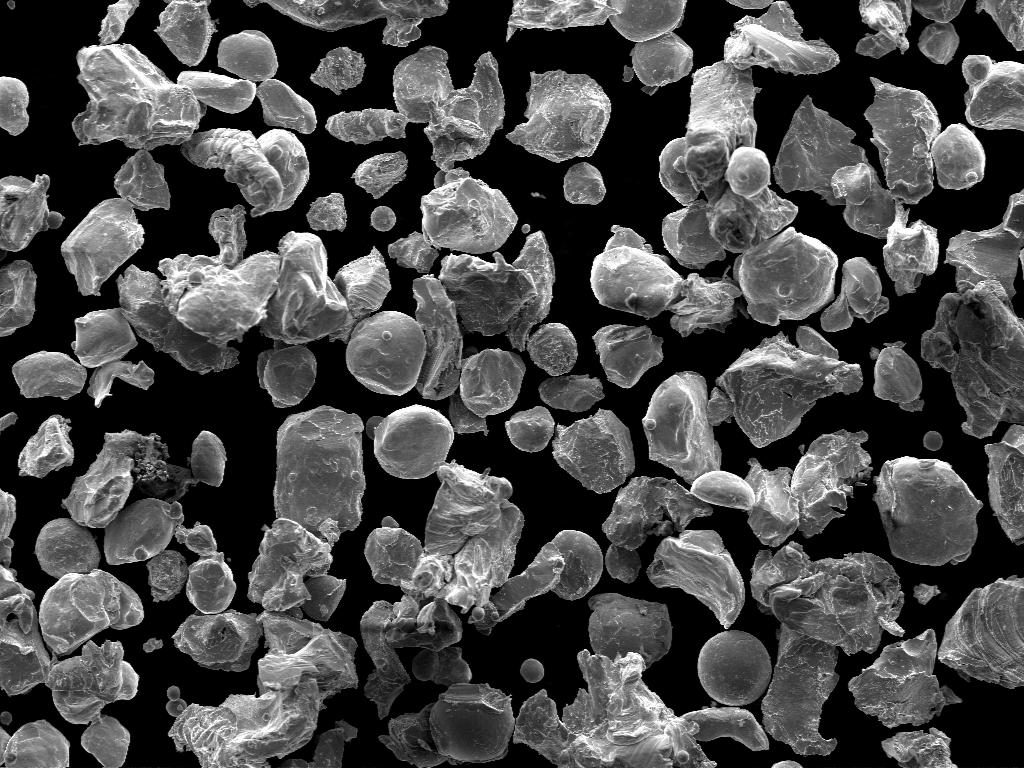Powder: (360, 462, 604, 715), (642, 326, 862, 482), (752, 542, 904, 754), (168, 608, 358, 767), (660, 60, 798, 267), (118, 206, 280, 373), (922, 190, 1024, 438), (514, 650, 714, 767), (692, 430, 872, 547), (774, 96, 896, 238), (60, 150, 170, 296), (394, 46, 504, 169), (440, 232, 554, 349), (74, 44, 200, 149), (62, 430, 196, 528), (274, 406, 366, 543), (874, 456, 982, 565), (182, 128, 310, 216), (380, 682, 514, 766), (848, 630, 962, 728), (734, 228, 838, 325), (260, 232, 348, 344), (938, 576, 1024, 688), (646, 530, 744, 628), (864, 78, 940, 204), (506, 70, 610, 162), (246, 0, 448, 46), (38, 570, 144, 654), (724, 0, 840, 74), (590, 226, 682, 318), (420, 168, 518, 254), (602, 476, 712, 550), (248, 518, 332, 611), (46, 640, 138, 724), (552, 410, 634, 494), (0, 566, 52, 696), (346, 312, 426, 396), (366, 404, 454, 478), (450, 350, 526, 434), (412, 276, 462, 399), (588, 594, 672, 665), (698, 630, 772, 706), (172, 610, 262, 672), (330, 248, 390, 341), (176, 524, 236, 614), (882, 204, 938, 296), (104, 498, 182, 564), (820, 258, 888, 332), (0, 174, 64, 252), (962, 56, 1024, 131), (668, 274, 742, 336), (986, 424, 1024, 544), (506, 0, 622, 39), (594, 324, 664, 388), (622, 32, 692, 93), (156, 0, 216, 66), (72, 308, 138, 368), (258, 340, 316, 408), (36, 518, 100, 578), (870, 342, 924, 412), (280, 720, 358, 768), (682, 708, 768, 751), (930, 124, 986, 189), (18, 414, 74, 478), (12, 352, 88, 398), (912, 0, 966, 64), (256, 78, 316, 134), (178, 72, 256, 114), (856, 0, 912, 57), (4, 720, 70, 768), (88, 360, 154, 408), (608, 0, 685, 41), (218, 30, 278, 82), (882, 728, 956, 768), (326, 108, 408, 144), (526, 324, 578, 376), (0, 260, 36, 335), (352, 152, 408, 198), (310, 48, 366, 94), (538, 374, 604, 412), (82, 716, 130, 768), (412, 646, 472, 686), (976, 0, 1024, 50), (506, 406, 554, 452), (146, 550, 188, 602), (302, 574, 346, 622), (388, 232, 438, 274), (190, 430, 226, 486), (98, 0, 140, 46), (0, 76, 30, 136), (564, 162, 606, 204), (306, 194, 346, 232), (604, 544, 642, 584), (0, 490, 16, 548), (166, 686, 188, 718), (370, 206, 396, 232), (520, 658, 544, 684), (914, 584, 940, 604), (922, 430, 944, 451), (0, 728, 10, 766), (0, 412, 18, 432), (142, 638, 162, 652), (772, 760, 802, 768), (0, 710, 12, 726)
